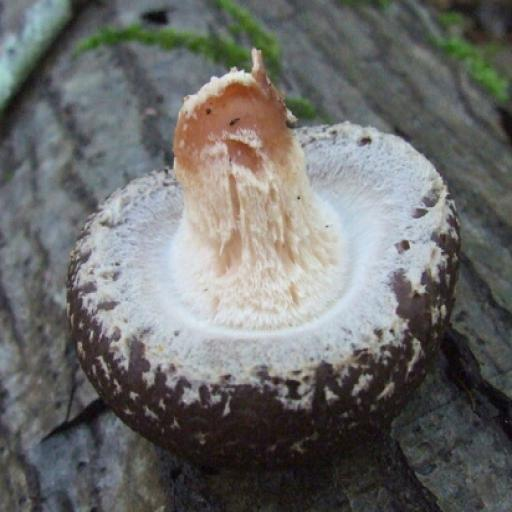Shiitake Mushroom: (53, 66, 478, 489)
